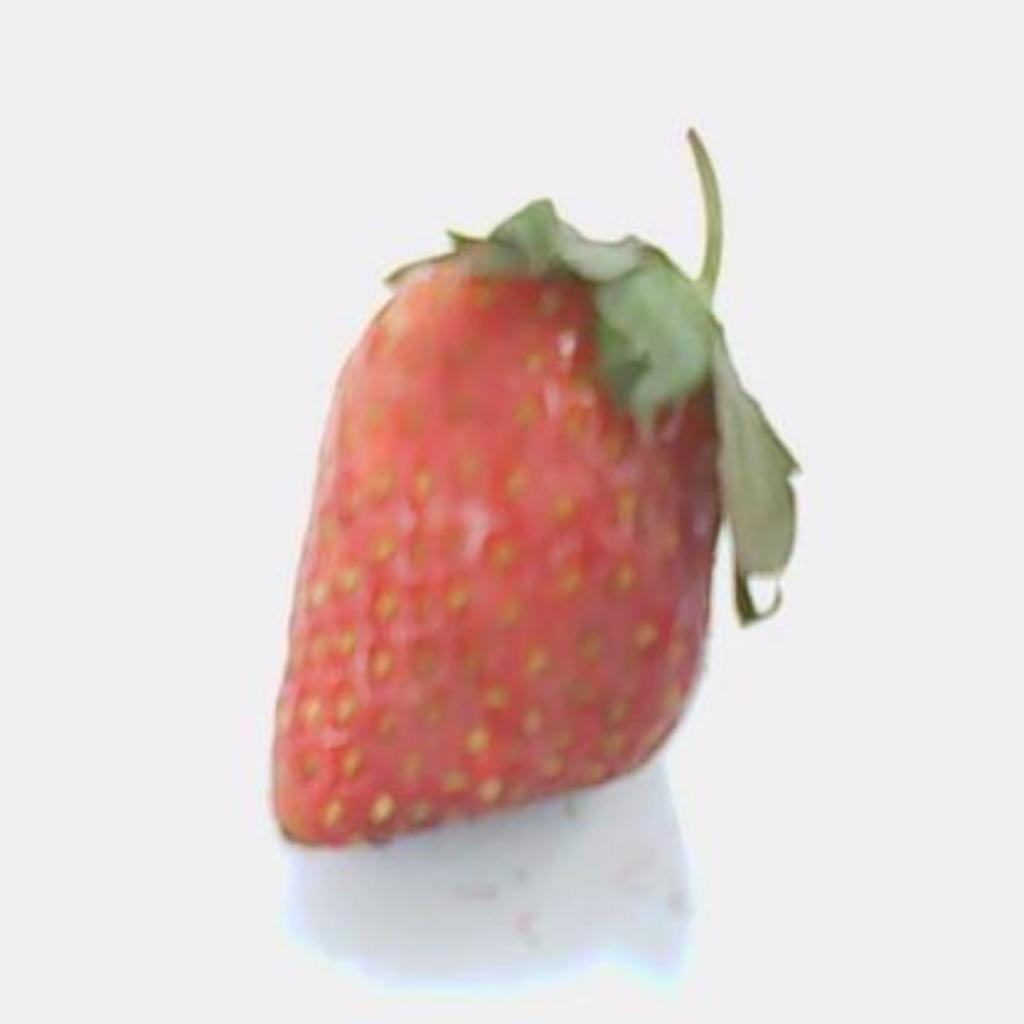strawberry: (274, 132, 796, 845)
